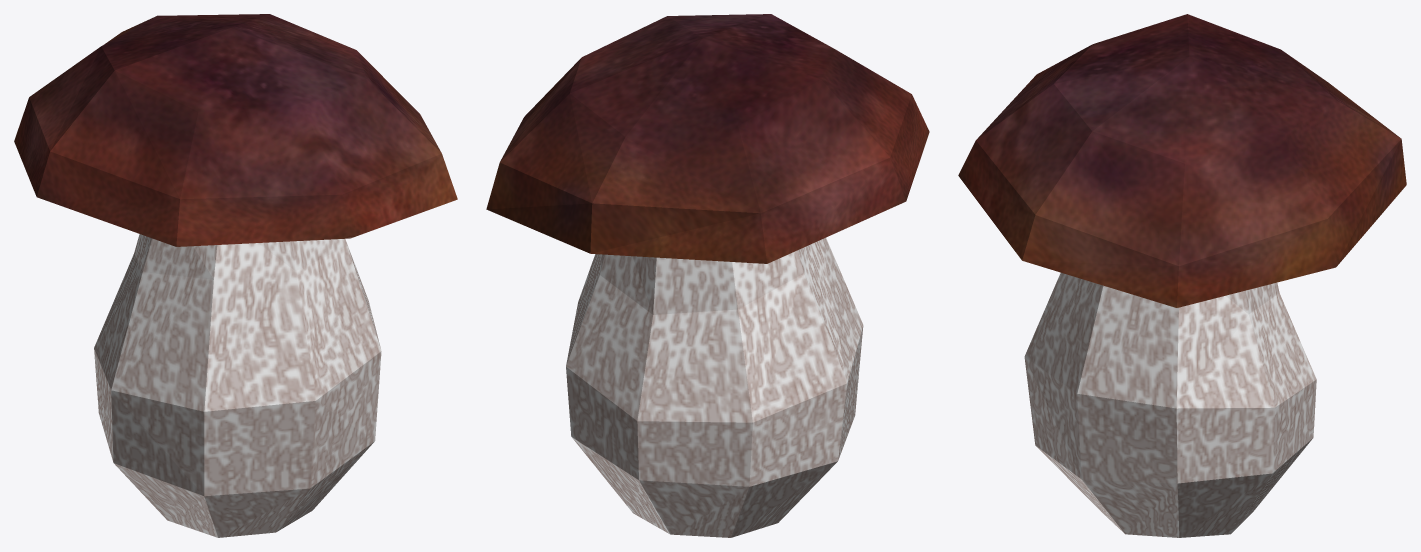
The model's file is boletus_low.DAE.
3 renders of one model, left to right at view 1: azimuth 30°, elevation 25°; view 2: azimuth 150°, elevation 25°; view 3: azimuth 270°, elevation 25°, orthographic. The views are drawn at different scales.
Visible parts, largest first — view 1: boletus_low; view 2: boletus_low; view 3: boletus_low.
Part boxes in pixels (x1,y1,x2,y2): boletus_low: (14,14,457,537); boletus_low: (486,14,929,537); boletus_low: (958,14,1406,537).
Size of the model in its own units: 0.8347 by 0.858 by 0.9623.
Materials: 1 (1 with a texture image).
